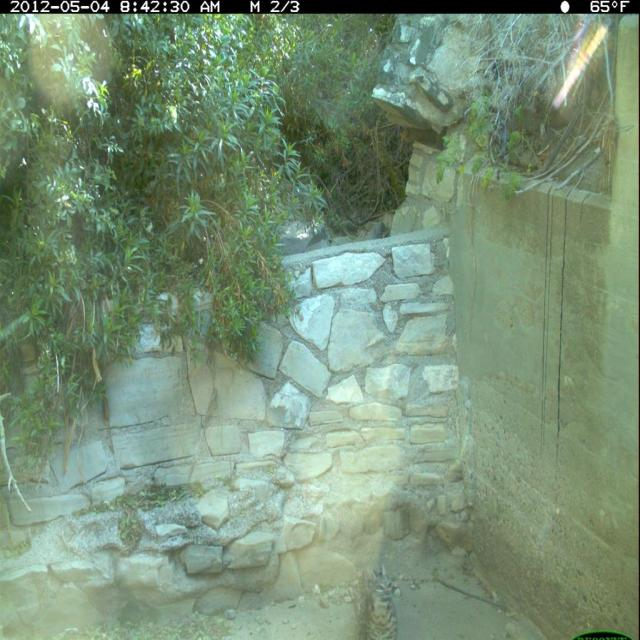bobcat: (350, 564, 403, 640)
